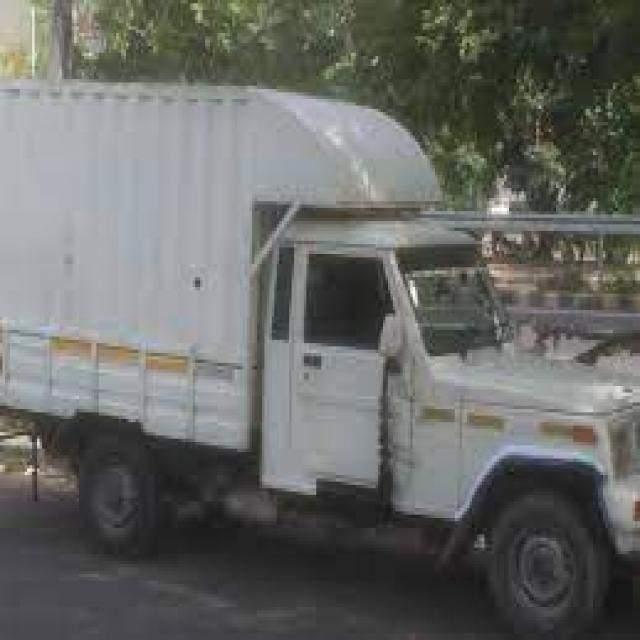Tempo: (6, 47, 640, 594)
